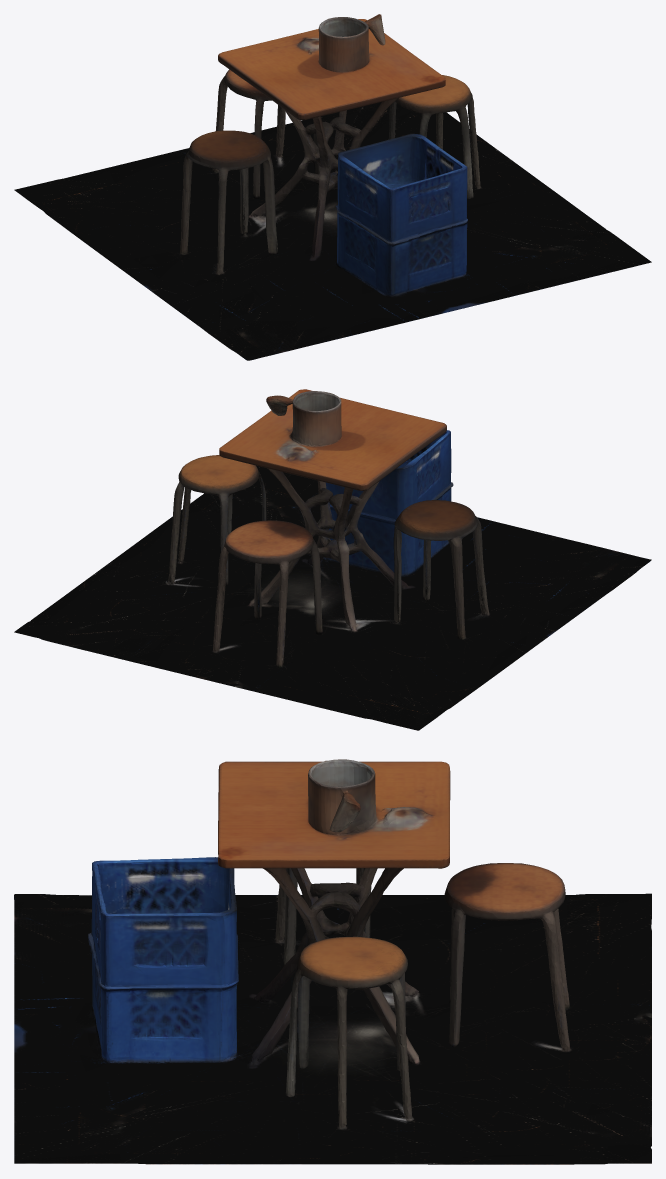
3 views of the same model, one above another, from view 1: azimuth 30°, elevation 25°; view 2: azimuth 150°, elevation 25°; view 3: azimuth 270°, elevation 25° (orthographic). The views are drawn at different scales.
Parts seen in each view (by area): view 1: world.006; view 2: world.006; view 3: world.006.
Boxes of the visible parts, x1,y1,x2,y2 form: world.006: (14, 14, 651, 360); world.006: (14, 389, 651, 730); world.006: (14, 759, 651, 1164).
Size of the model in its own units: 100 by 46.29 by 100.
Materials: 1 (1 with a texture image).
